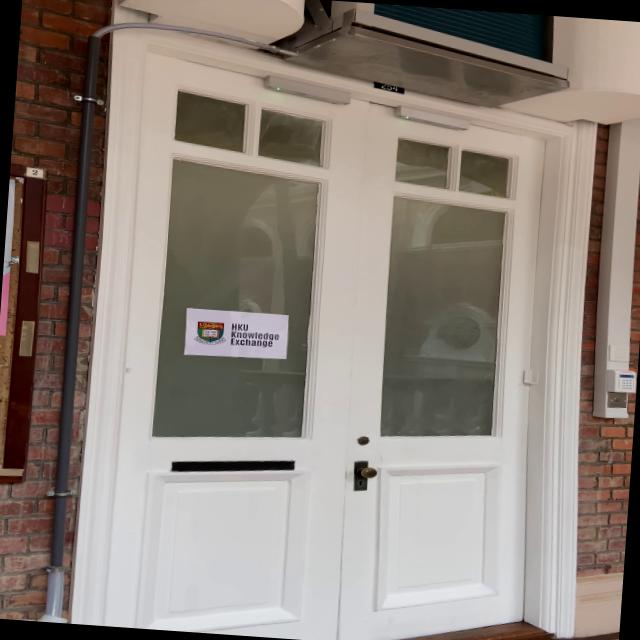room254: (371, 80, 405, 94)
